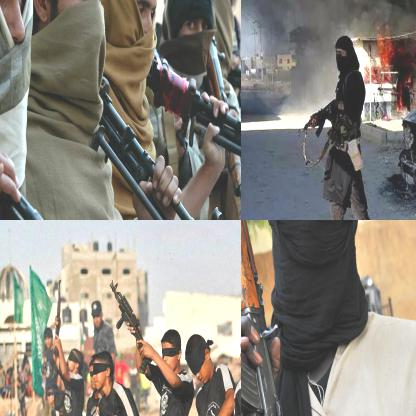rifle: (97, 74, 224, 219), (0, 65, 99, 219), (147, 50, 240, 188), (241, 220, 292, 415), (107, 280, 154, 373), (296, 98, 339, 138), (52, 280, 63, 357)
